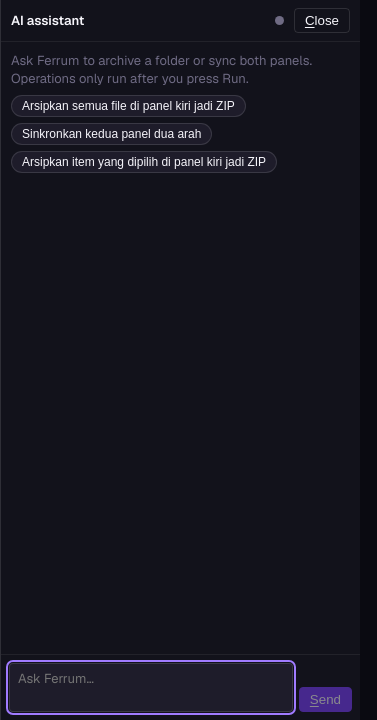
ChatPanel suggestion chips › shows starter chips in the empty state and sends the chip text
Click the button "Sinkronkan kedua panel dua arah": (112, 134) [11, 123, 212, 145]
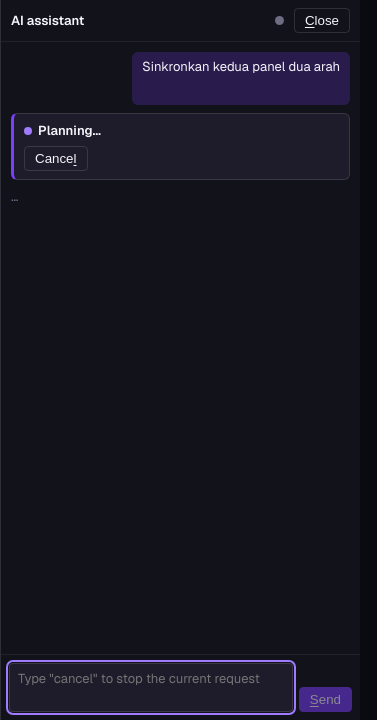
Expected: the text "Sinkronkan kedua panel dua arah" is shown, [142, 58, 340, 76]
Result: the element with test id "starter-chips" is gone
